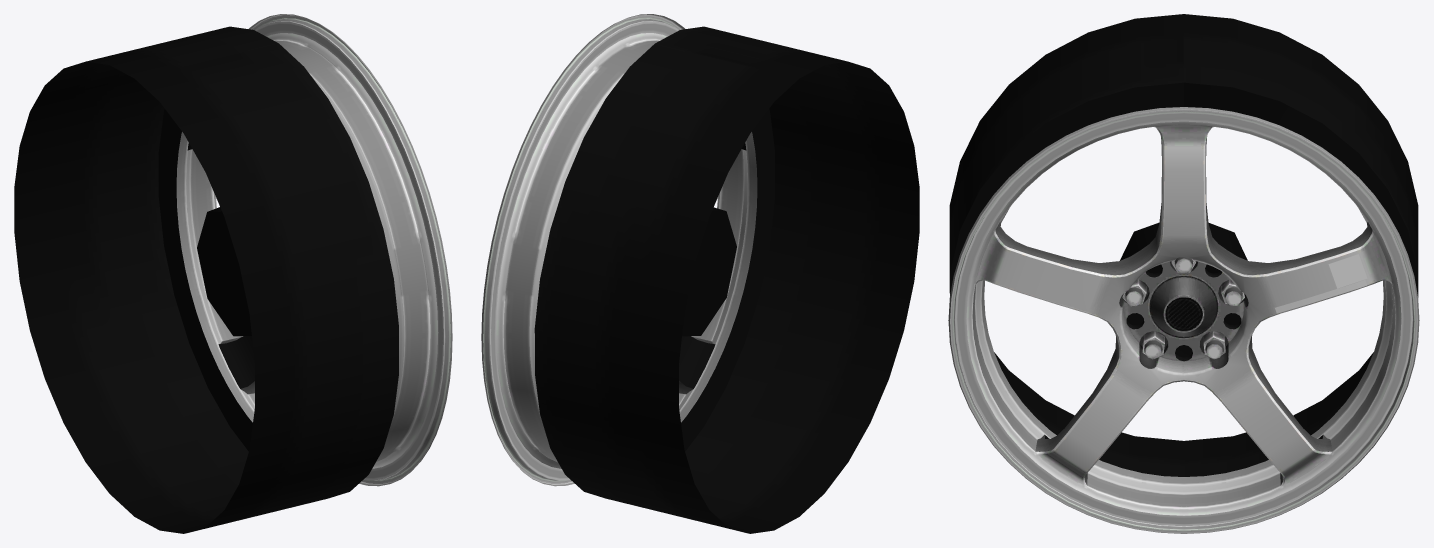
The model's file is wheel49.fbx.
3 renders of one model, left to right at view 1: azimuth 30°, elevation 25°; view 2: azimuth 150°, elevation 25°; view 3: azimuth 270°, elevation 25°, orthographic. The views are drawn at different scales.
Visible parts, largest first — view 1: gra_t57_rc_wheel_wheel_inner_rim_, wheel_rim, gra_t57_rc_wheel_wheel_rim_; view 2: gra_t57_rc_wheel_wheel_inner_rim_, wheel_rim, gra_t57_rc_wheel_wheel_rim_; view 3: gra_t57_rc_wheel_wheel_rim_, gra_t57_rc_wheel_wheel_inner_rim_, wheel_rim, gra_t57_rc_wheel_wheel_chrome_rim_, gra_t57_rc_wheel_wheel_wheel_emblem_.
Part boxes in pixels (box(x1,y1,x2,y2)): gra_t57_rc_wheel_wheel_inner_rim_: box(14, 26, 398, 533); wheel_rim: box(176, 14, 451, 486); gra_t57_rc_wheel_wheel_rim_: box(176, 14, 452, 483); gra_t57_rc_wheel_wheel_inner_rim_: box(534, 26, 919, 533); wheel_rim: box(482, 14, 757, 486); gra_t57_rc_wheel_wheel_rim_: box(481, 14, 757, 480); gra_t57_rc_wheel_wheel_rim_: box(948, 107, 1419, 533); gra_t57_rc_wheel_wheel_inner_rim_: box(949, 14, 1418, 476); wheel_rim: box(949, 107, 1418, 533); gra_t57_rc_wheel_wheel_chrome_rim_: box(1122, 257, 1244, 359); gra_t57_rc_wheel_wheel_wheel_emblem_: box(1275, 254, 1367, 313).
Size of the model in its own units: 0.2285 by 0.48 by 0.48.
1 material, 1 textured.
